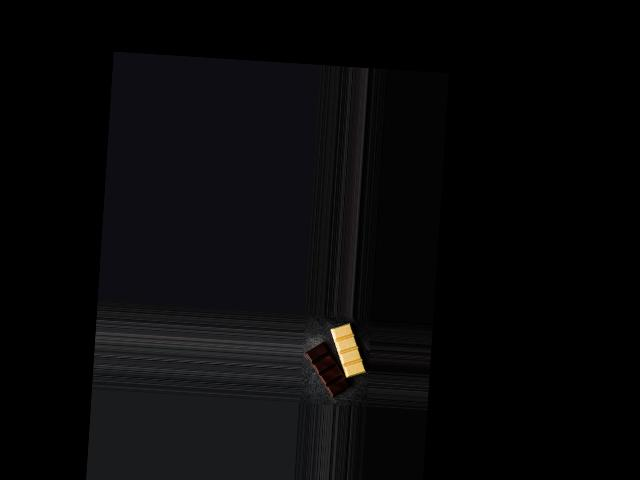chocolate: (304, 317, 368, 398)
